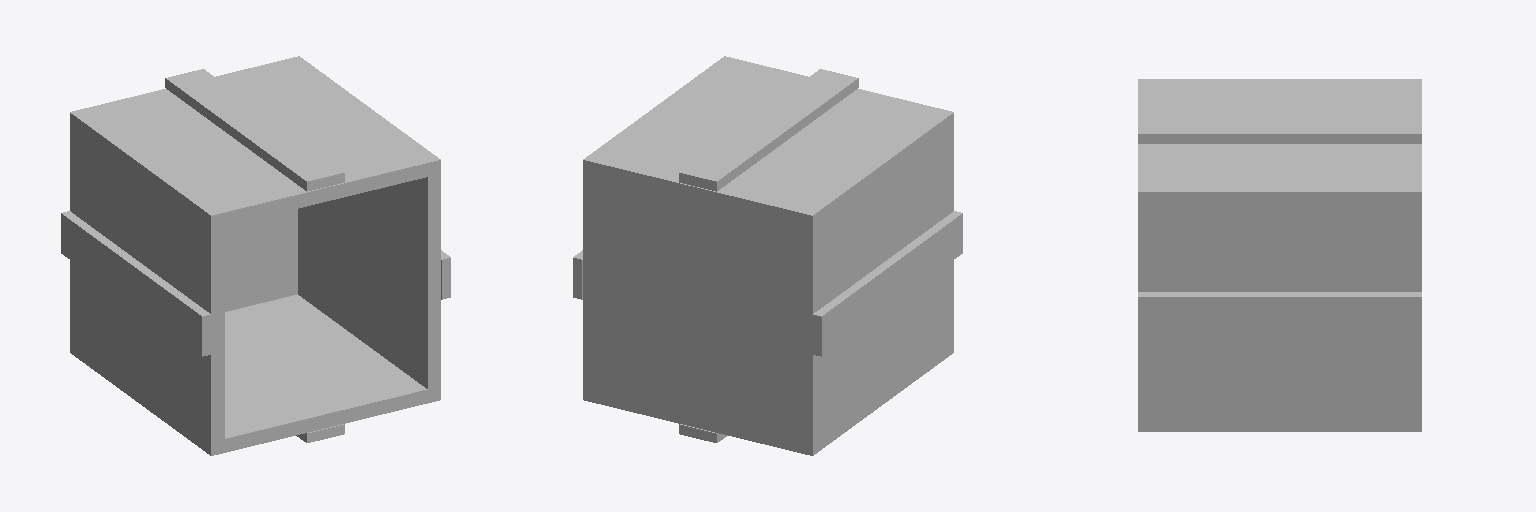
The model's file is present.obj.
3 renders of one model, left to right at view 1: azimuth 30°, elevation 25°; view 2: azimuth 150°, elevation 25°; view 3: azimuth 270°, elevation 25°, orthographic.
Parts seen in each view (by area): view 1: obj_0; view 2: obj_0; view 3: obj_0.
Part boxes in pixels (x1,y1,x2,y2): obj_0: (61, 56, 450, 455); obj_0: (573, 56, 962, 455); obj_0: (1138, 79, 1421, 431).
Size of the model in its own units: 30.41 by 30.58 by 30.